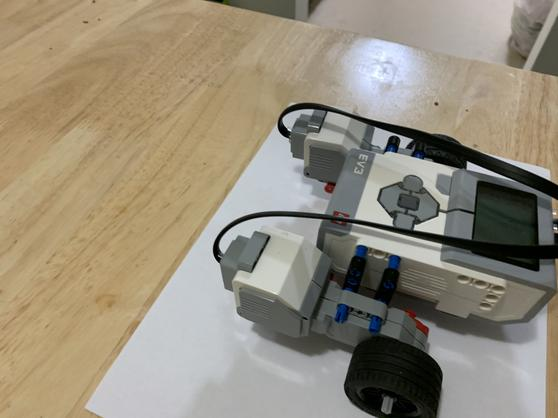robot: (211, 91, 558, 418)
